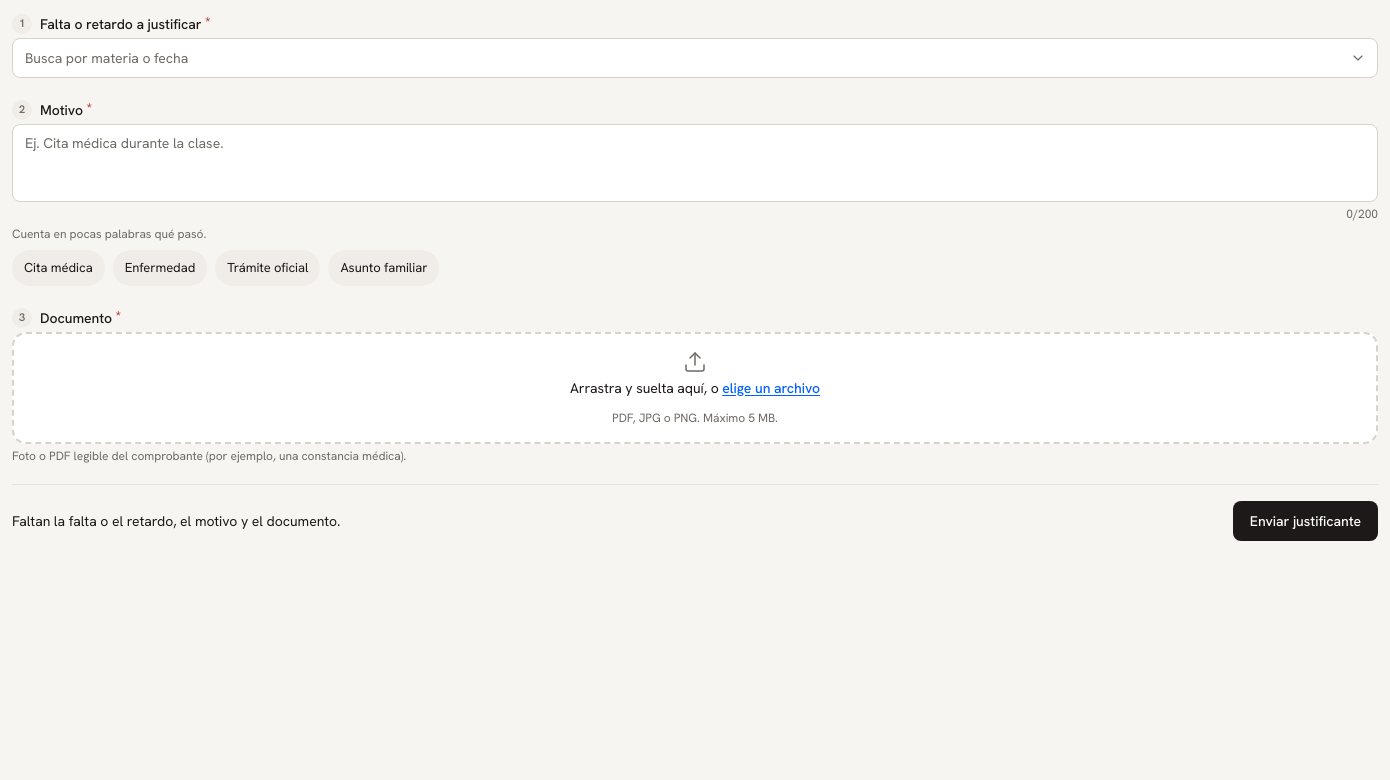
Test case: FormularioJustificante › con más de cuatro faltas se elige con búsqueda por materia o fecha
Click the dropdown labelled "1 Falta o retardo a justificar *" at point(695, 58), box [12,38,1378,78]
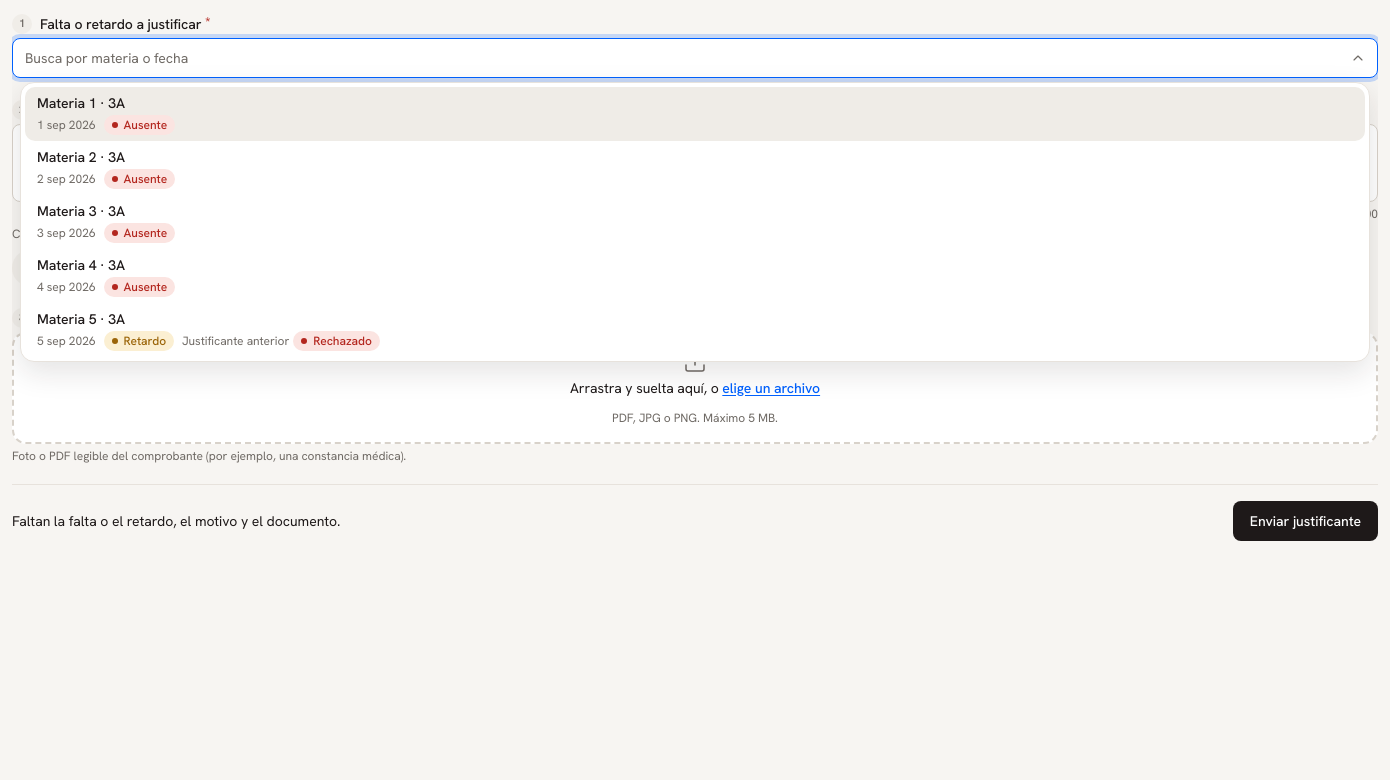
Now the number of options is 5, box [25,87,1365,141]; [37,148,175,189]; [37,202,175,243]; [37,256,175,297]; [37,310,380,351]
Type "materia 5" into the dropdown labelled "1 Falta o retardo a justificar *" at point(695, 58), box [12,38,1378,78]
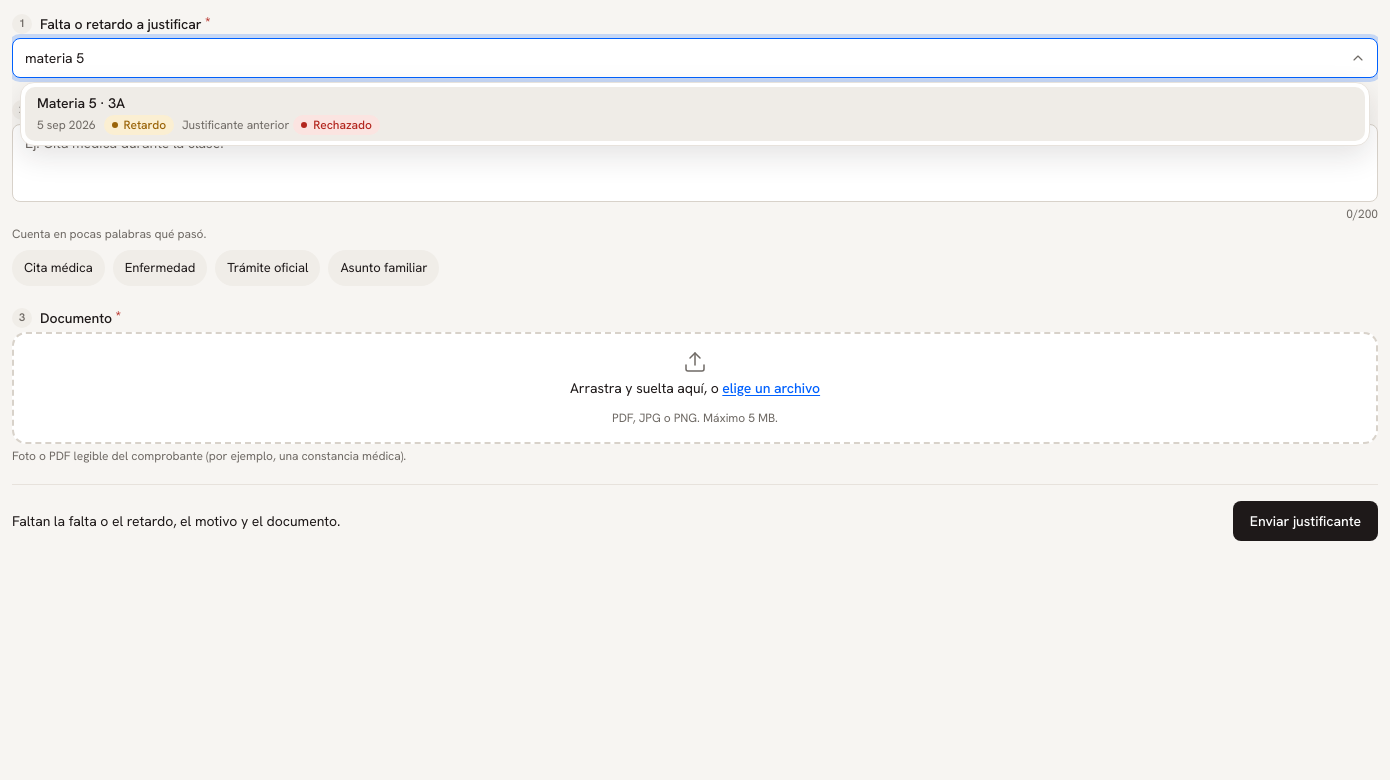
Now the option shows "Materia 5 · 3A"
Now the text "Retardo" is shown, box [104,115,174,135]
Now the text "Rechazado" is shown, box [293,115,380,135]
Click the option at point(81, 103), box [25,87,1365,141]
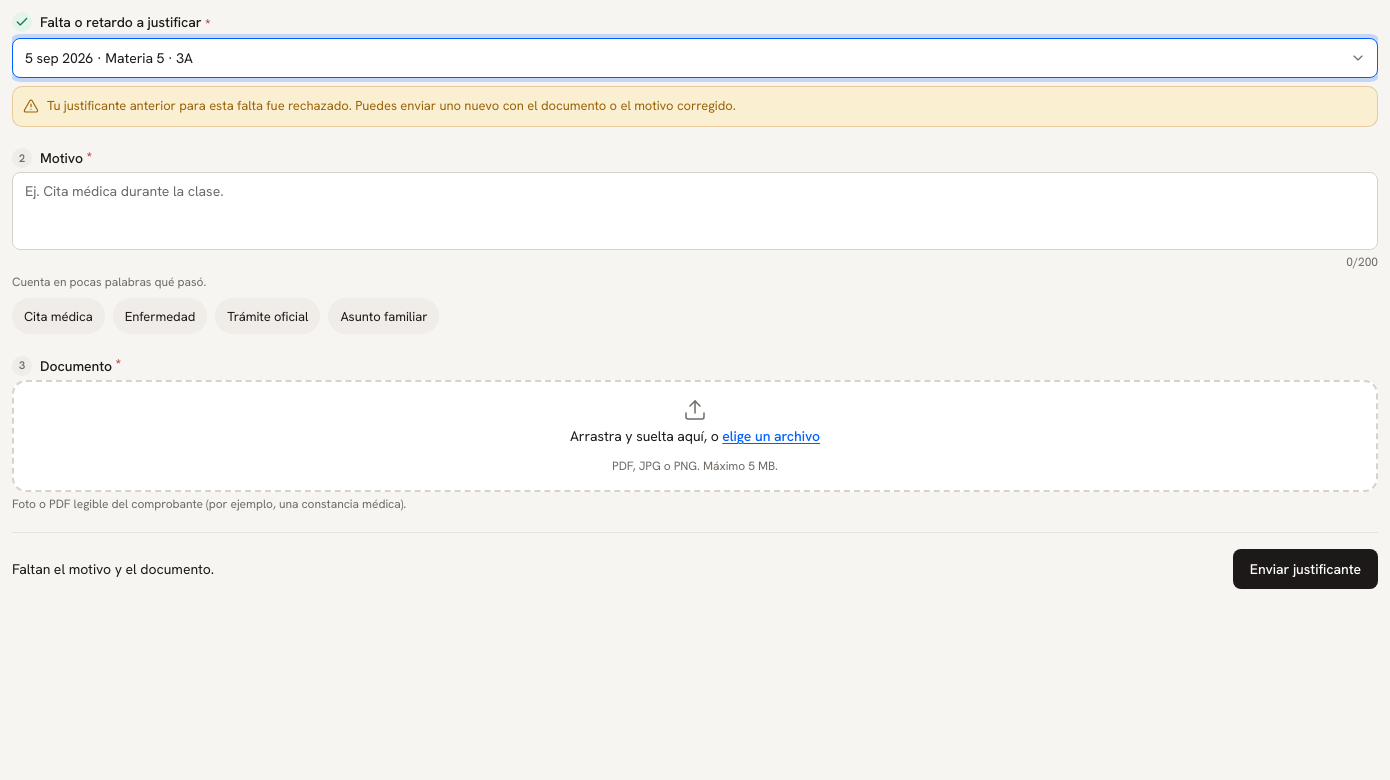
Now the dropdown labelled "Falta o retardo a justificar *" holds "5 sep 2026 · Materia 5 · 3A", box [12,38,1378,78]
Now the text "Tu justificante anterior para esta falta fue rechazado" is shown, box [47,97,736,114]
